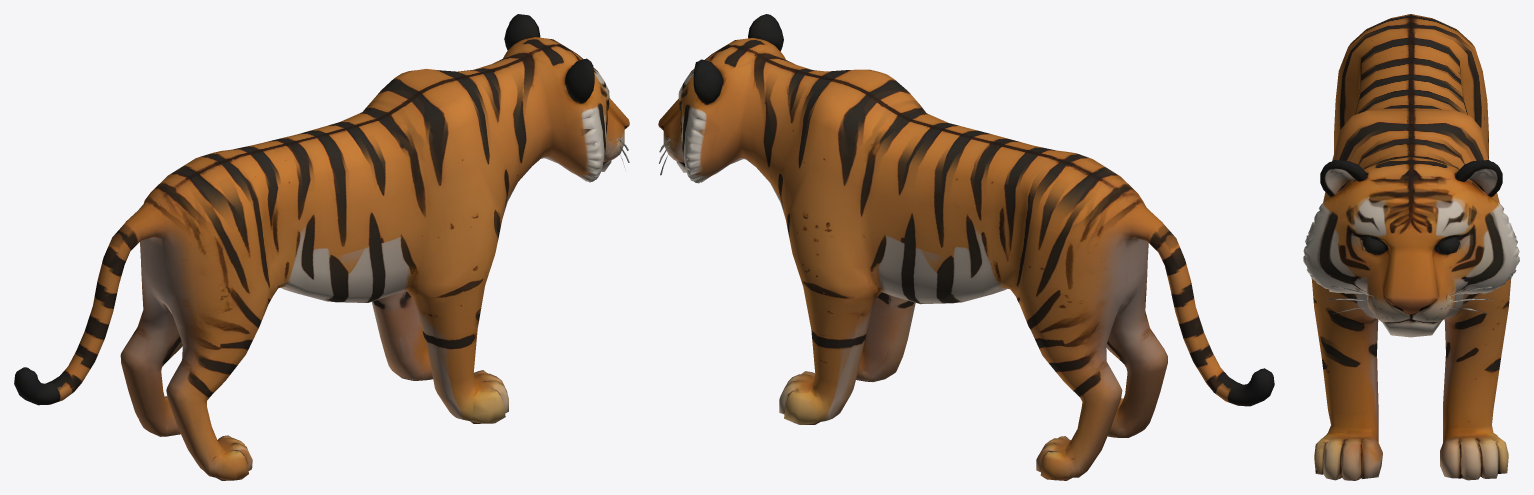
The model's file is tiger.glb.
3 renders of one model, left to right at view 1: azimuth 30°, elevation 25°; view 2: azimuth 150°, elevation 25°; view 3: azimuth 270°, elevation 25°, orthographic. The views are drawn at different scales.
Visible parts, largest first — view 1: tripo_node_6cb0647c-4310-4a8f-819c-fa0057792b52; view 2: tripo_node_6cb0647c-4310-4a8f-819c-fa0057792b52; view 3: tripo_node_6cb0647c-4310-4a8f-819c-fa0057792b52.
Part boxes in pixels (bbox=[...]): tripo_node_6cb0647c-4310-4a8f-819c-fa0057792b52: bbox=[14, 14, 629, 480]; tripo_node_6cb0647c-4310-4a8f-819c-fa0057792b52: bbox=[658, 14, 1274, 480]; tripo_node_6cb0647c-4310-4a8f-819c-fa0057792b52: bbox=[1303, 14, 1519, 480].
Size of the model in its own units: 0.998 by 0.5176 by 0.2754.
1 material, 1 textured.
